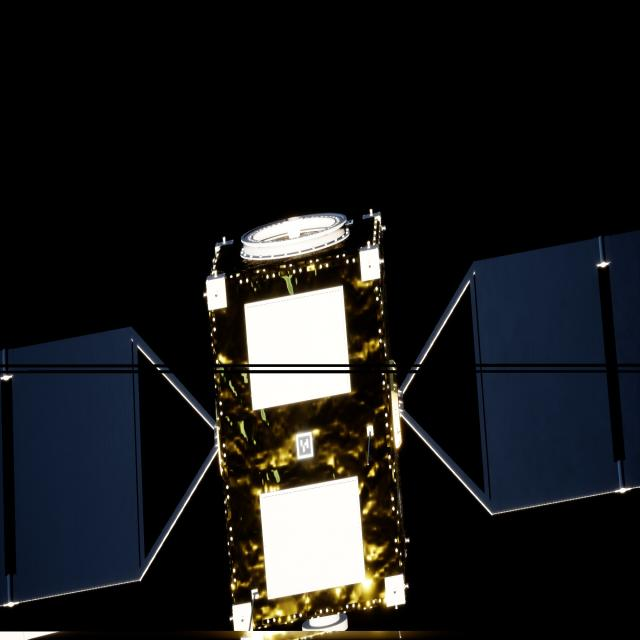satellite: (0, 213, 640, 633)
